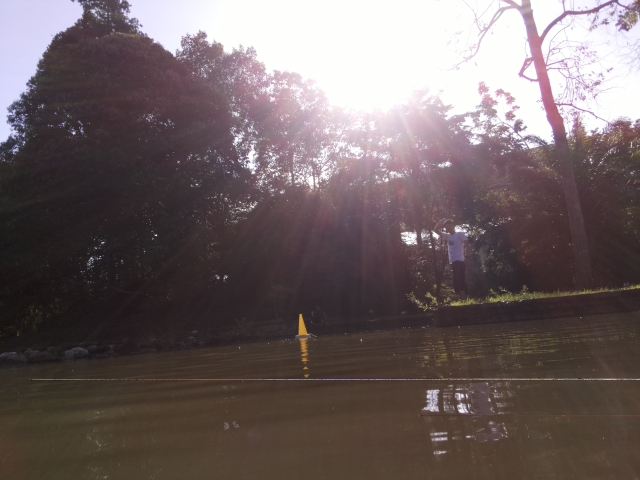checkpoint: (295, 312, 312, 337)
